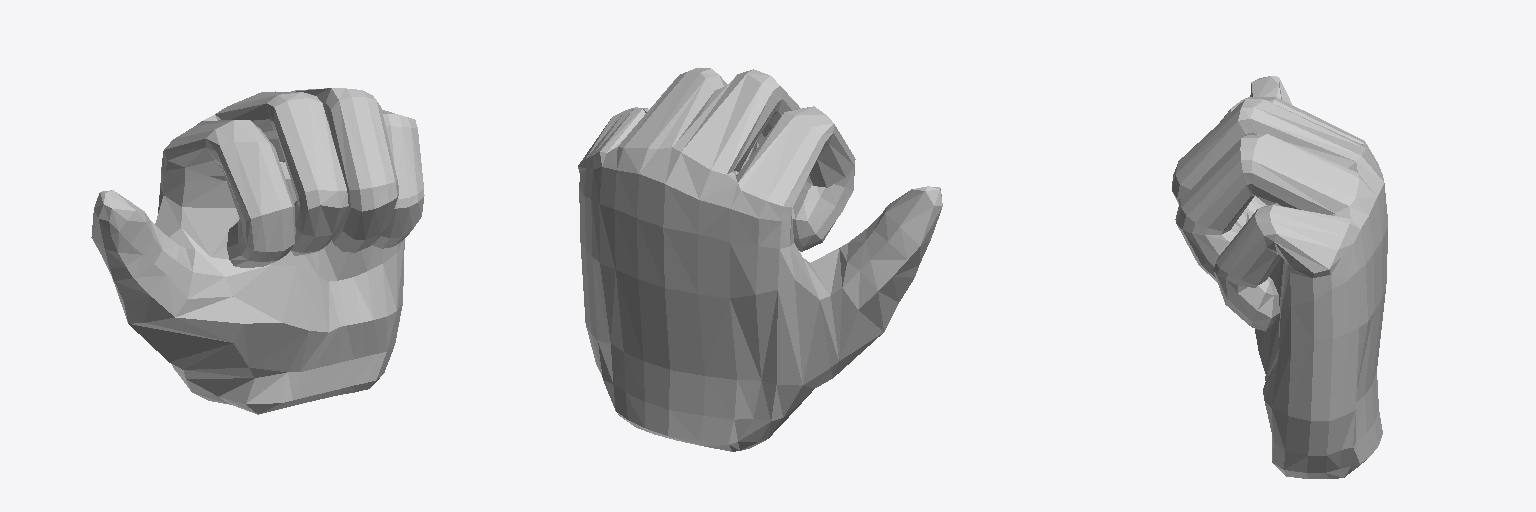
Rendered from mao_onze_aperta.obj.
The picture shows the model from 3 angles: view 1: azimuth 30°, elevation 25°; view 2: azimuth 150°, elevation 25°; view 3: azimuth 270°, elevation 25°; orthographic projection.
Visible parts, largest first — view 1: objBox02; view 2: objBox02; view 3: objBox02.
Boxes of the visible parts, <box> form: objBox02: <box>91,88,424,414</box>; objBox02: <box>578,68,942,451</box>; objBox02: <box>1172,76,1387,478</box>.
Bounding box in the file's own units: 173 × 164 × 97.66.